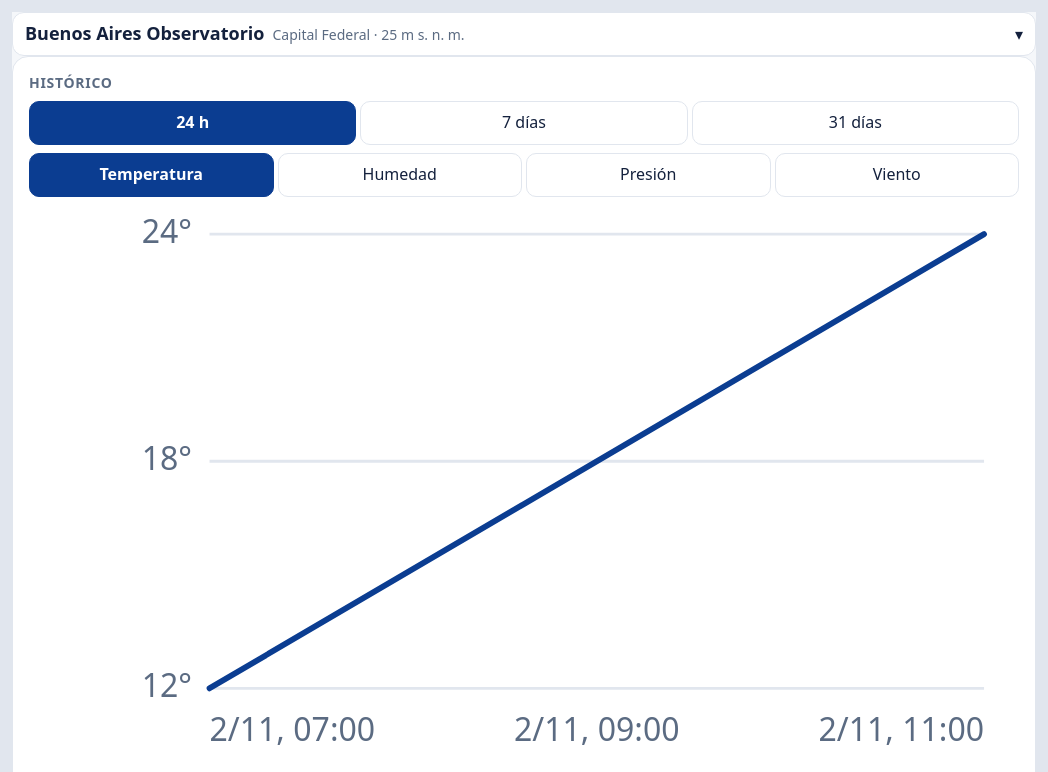
Scenario: HistoryScreen › cambiar de métrica redibuja con su unidad
This screenshot has width=1048, height=772.
Click the button "Humedad".
click(400, 175)  # box 278,153 -> 522,197
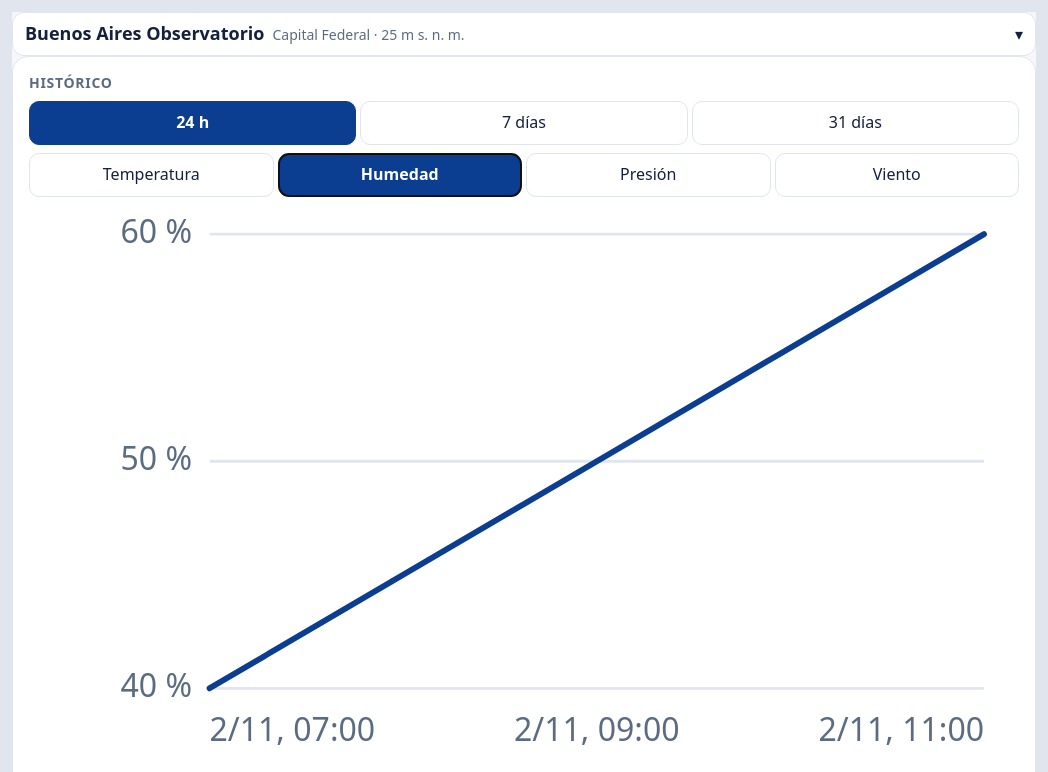
Result: the picture named "Humedad, últimas 24 horas: mínimo 40 %, máximo 60 %, último 60 %" is shown
